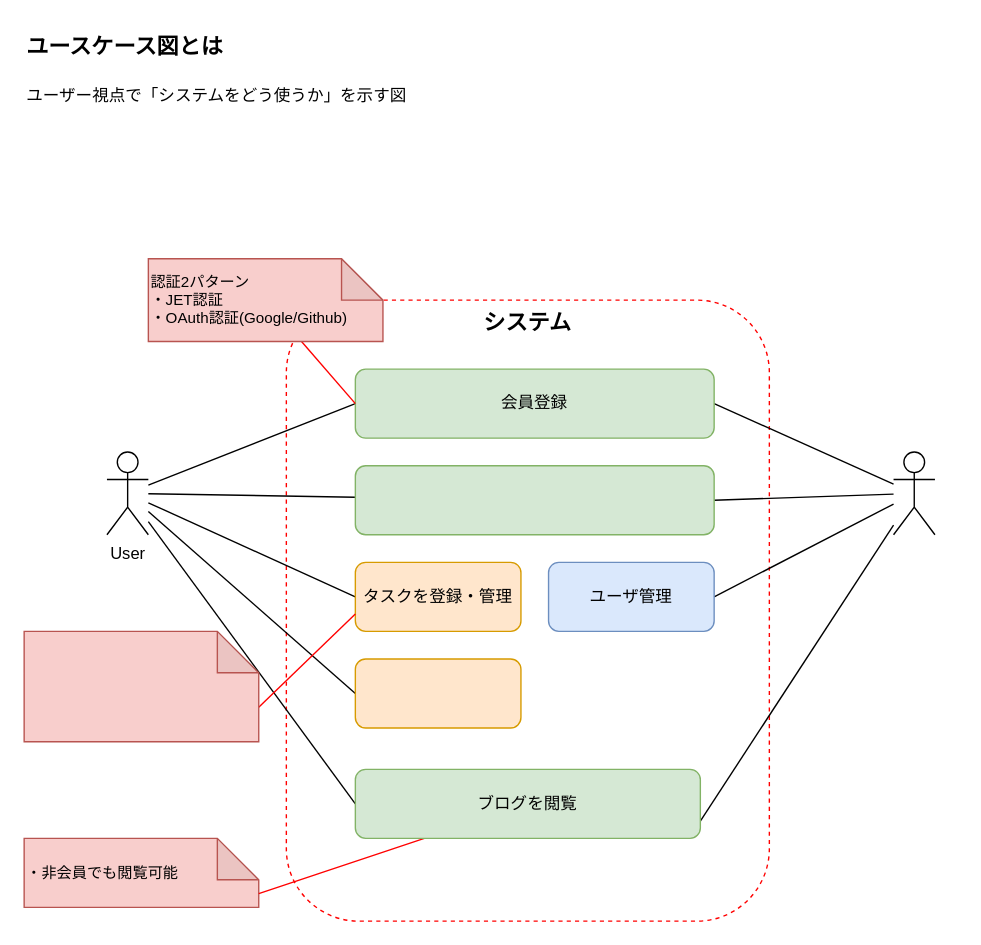
The diagram is 981 pixels wide and 945 high, and some of its shapes have lost their labels. The centre of each missing label's shape, as x and y in pixels:
"Admin User" belongs at (913,493).
"ブログを登録・管理" belongs at (437,693).
"ログイン" belongs at (534,499).
"・タスク追加時にslack に通知する ・タスクを確認できるのは紐づくユーザーのみ" belongs at (141,686).
